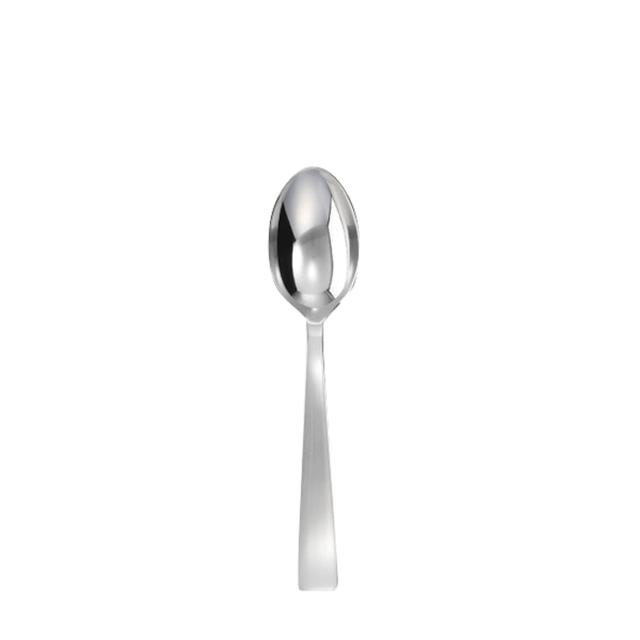spoon: (254, 148, 370, 602)
